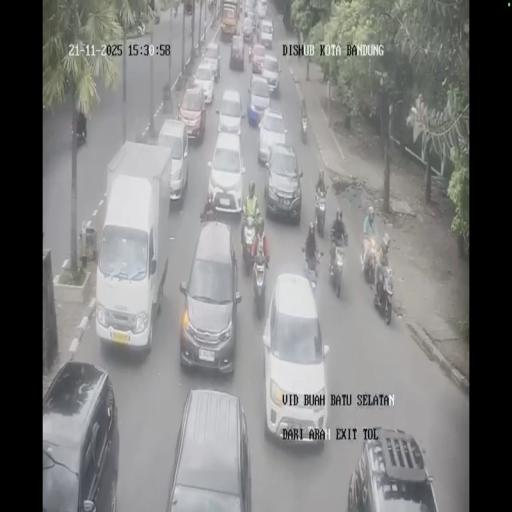car: (40, 360, 119, 510), (164, 387, 252, 510), (264, 275, 328, 444), (178, 219, 241, 371), (346, 428, 440, 510), (205, 131, 245, 216), (264, 141, 303, 222), (157, 117, 189, 200), (178, 83, 206, 142), (216, 86, 244, 137), (260, 53, 280, 95), (203, 42, 221, 81), (229, 33, 245, 70), (258, 18, 274, 49), (250, 42, 266, 72), (242, 14, 255, 42), (255, 0, 267, 18), (244, 0, 254, 18)
motorcycle: (373, 260, 394, 324), (251, 253, 268, 315), (328, 240, 346, 297), (240, 213, 258, 269), (303, 245, 323, 291), (313, 185, 328, 236), (362, 240, 377, 284)
truck: (95, 143, 174, 354), (220, 0, 240, 38)
